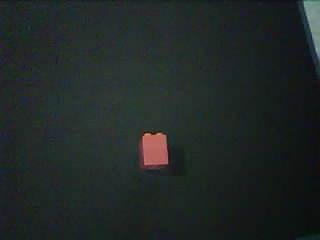lego: (138, 132, 170, 169)
